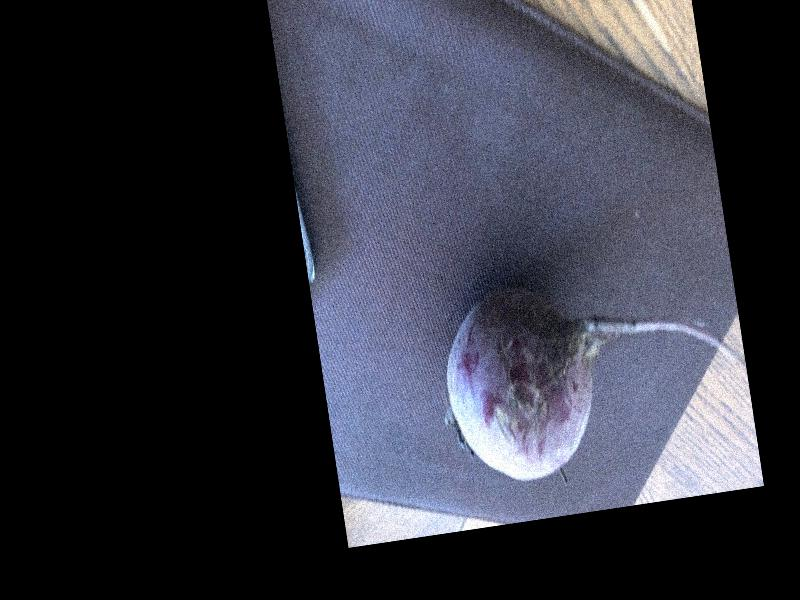Beet: (434, 256, 755, 488)
